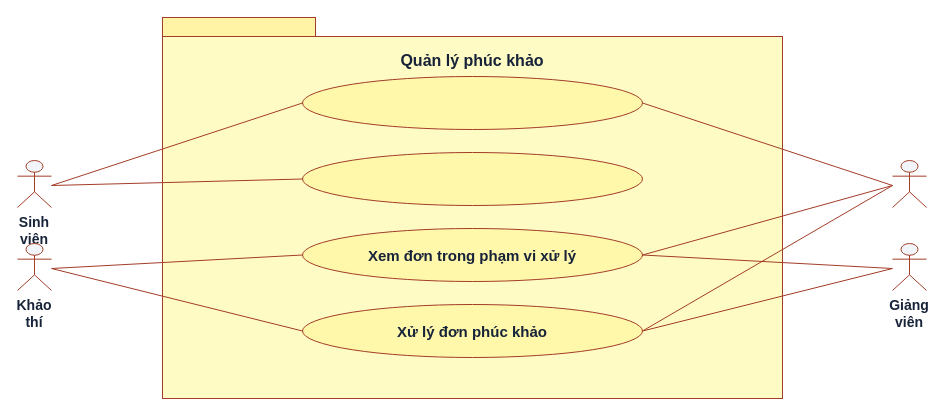
This 947x416 diagram has some shape labels left out. The shapes that lost their labels are listed below. From the top down, each one's centre as x and y in pixels, then its label:
At (x=472, y=103): "Gửi đơn phúc khảo".
At (x=472, y=179): "Theo dõi đơn đã gửi".
At (x=909, y=184): "Quản trị viên".
